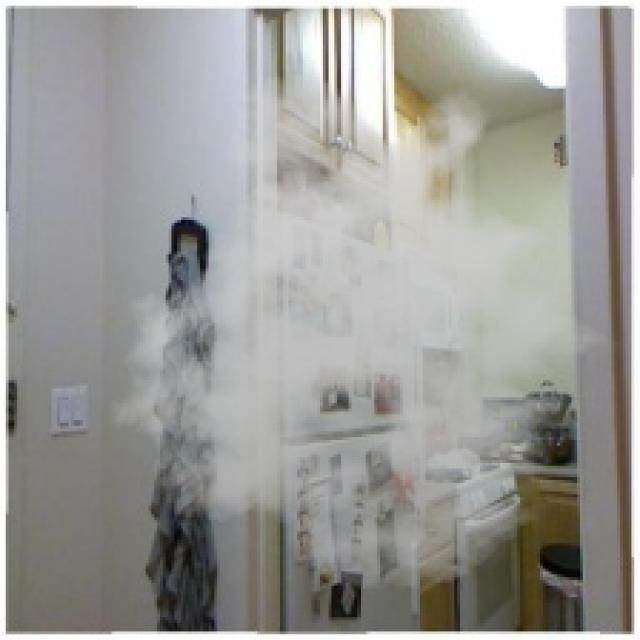Smoke: (97, 69, 632, 592)
